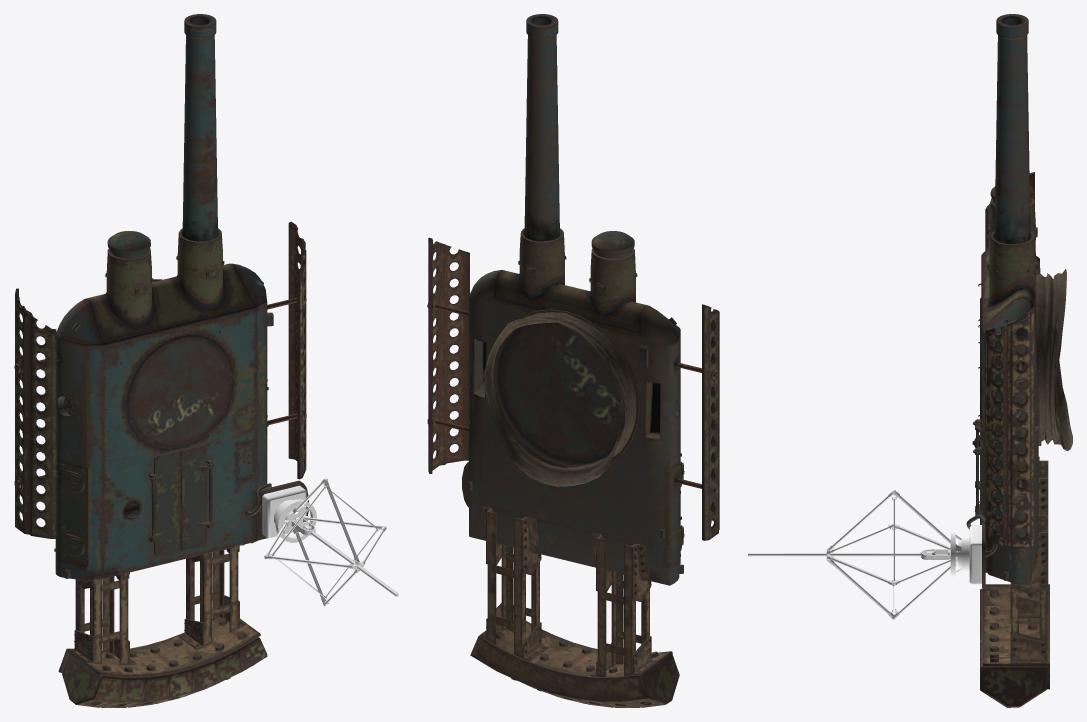
File: Gun_01.glb
3 renders of one model, left to right at view 1: azimuth 30°, elevation 25°; view 2: azimuth 150°, elevation 25°; view 3: azimuth 270°, elevation 25°, orthographic.
Parts seen in each view (by area): view 1: set_0_group_0, set_0_group_1; view 2: set_0_group_0; view 3: set_0_group_0, set_0_group_1.
Boxes of the visible parts, <box> form: set_0_group_0: <box>14,14,308,707</box>; set_0_group_1: <box>262,478,398,606</box>; set_0_group_0: <box>427,14,719,707</box>; set_0_group_0: <box>966,14,1072,707</box>; set_0_group_1: <box>748,490,981,619</box>.
Bounding box in the file's own units: 1.94 × 4.06 × 1.76.
Materials: 2 (1 with a texture image).
